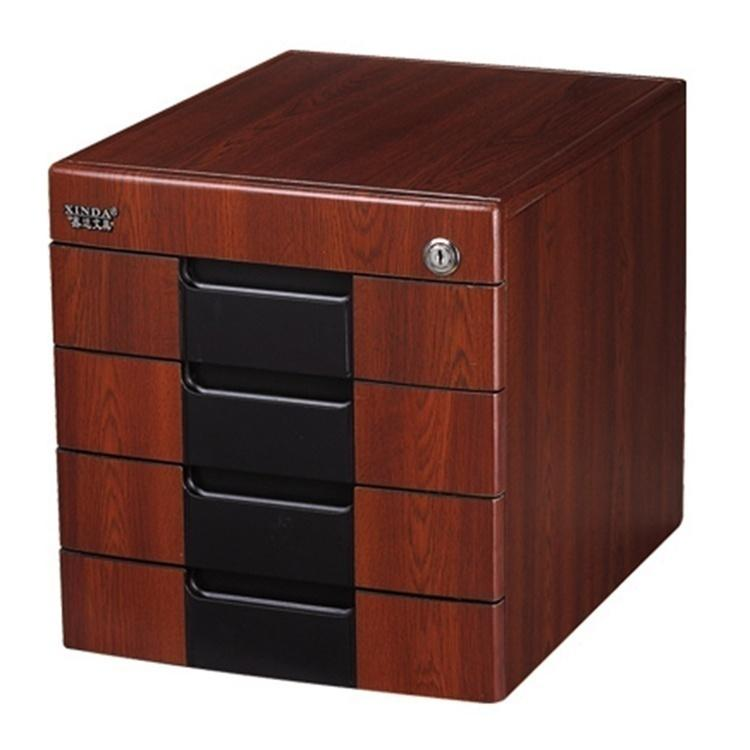cabinet_door: (53, 368, 492, 476), (61, 579, 499, 681), (55, 263, 495, 362), (61, 478, 498, 576)
handle: (178, 363, 357, 427), (178, 256, 352, 315), (186, 571, 358, 628), (182, 465, 353, 522)
